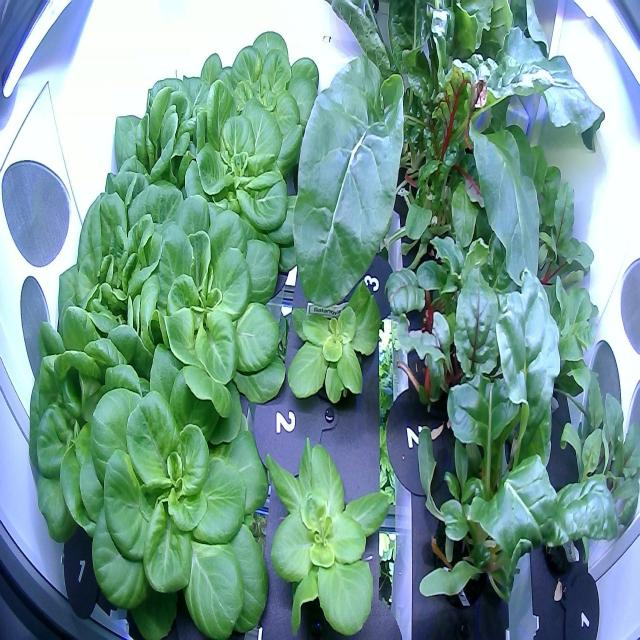Ready: (74, 334, 275, 639), (118, 178, 288, 421), (20, 301, 168, 574), (52, 169, 192, 392), (166, 80, 312, 274), (108, 47, 231, 220), (197, 17, 330, 173)
young: (261, 424, 400, 639), (278, 264, 388, 422)
